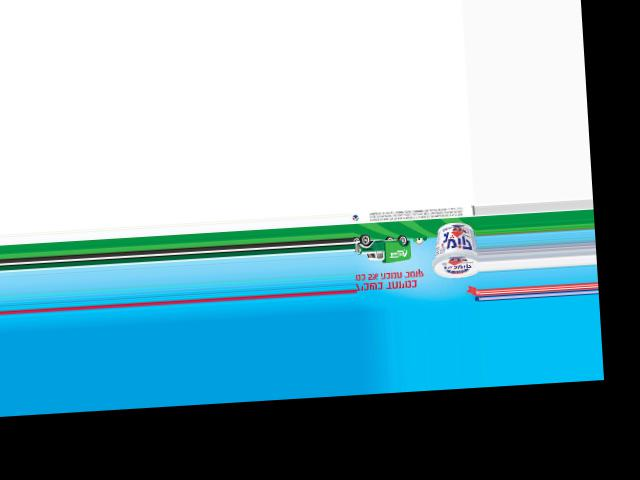cotage: (430, 220, 478, 280)
